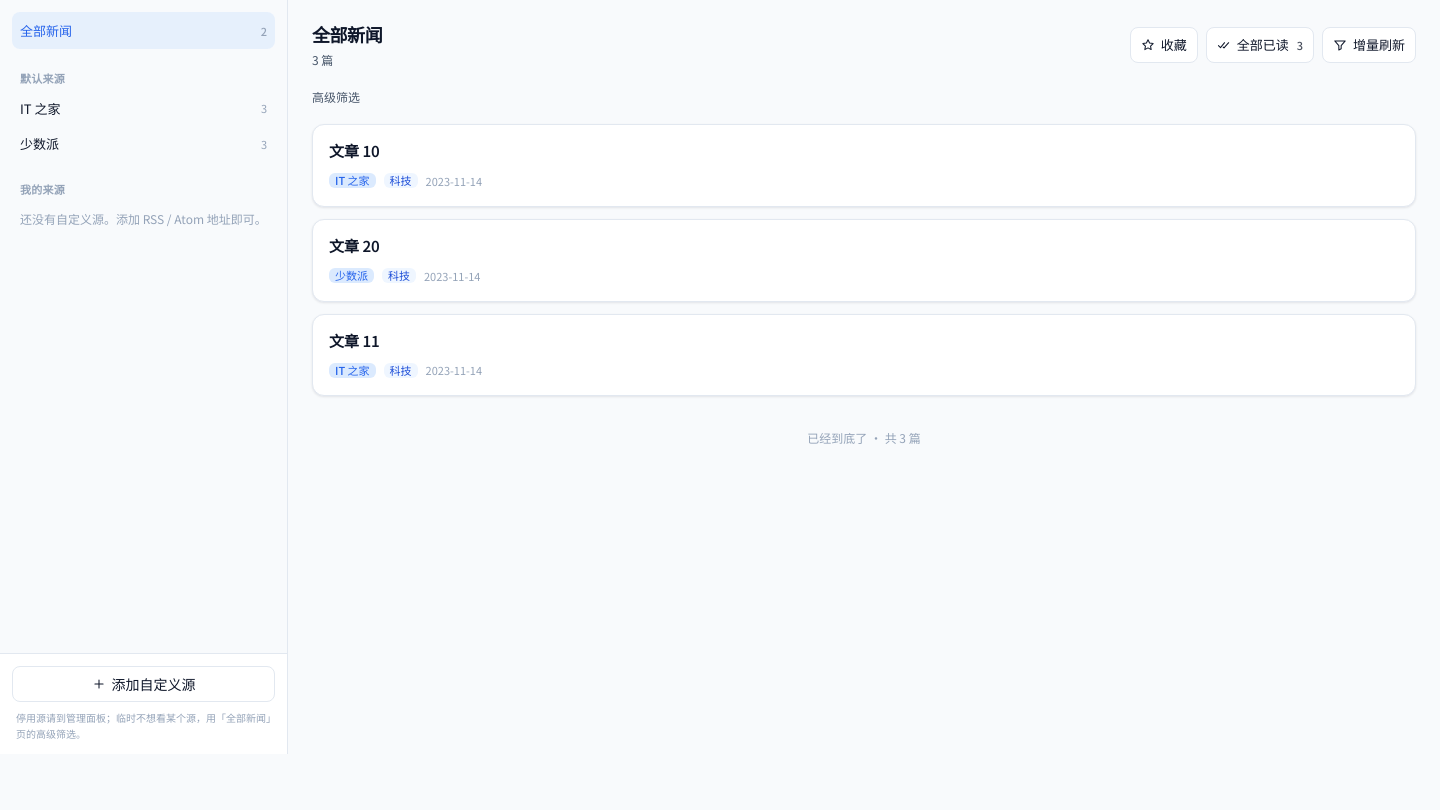
it: 清除入口与视图连续性 › 先隐藏 A、点开 B、再回「全部新闻」：隐藏状态不丢（不随视图重置）
Check: the text "3 篇" is shown, box [312,51,333,68]
Click the button "高级筛选" at (336,97), box [312,87,360,107]
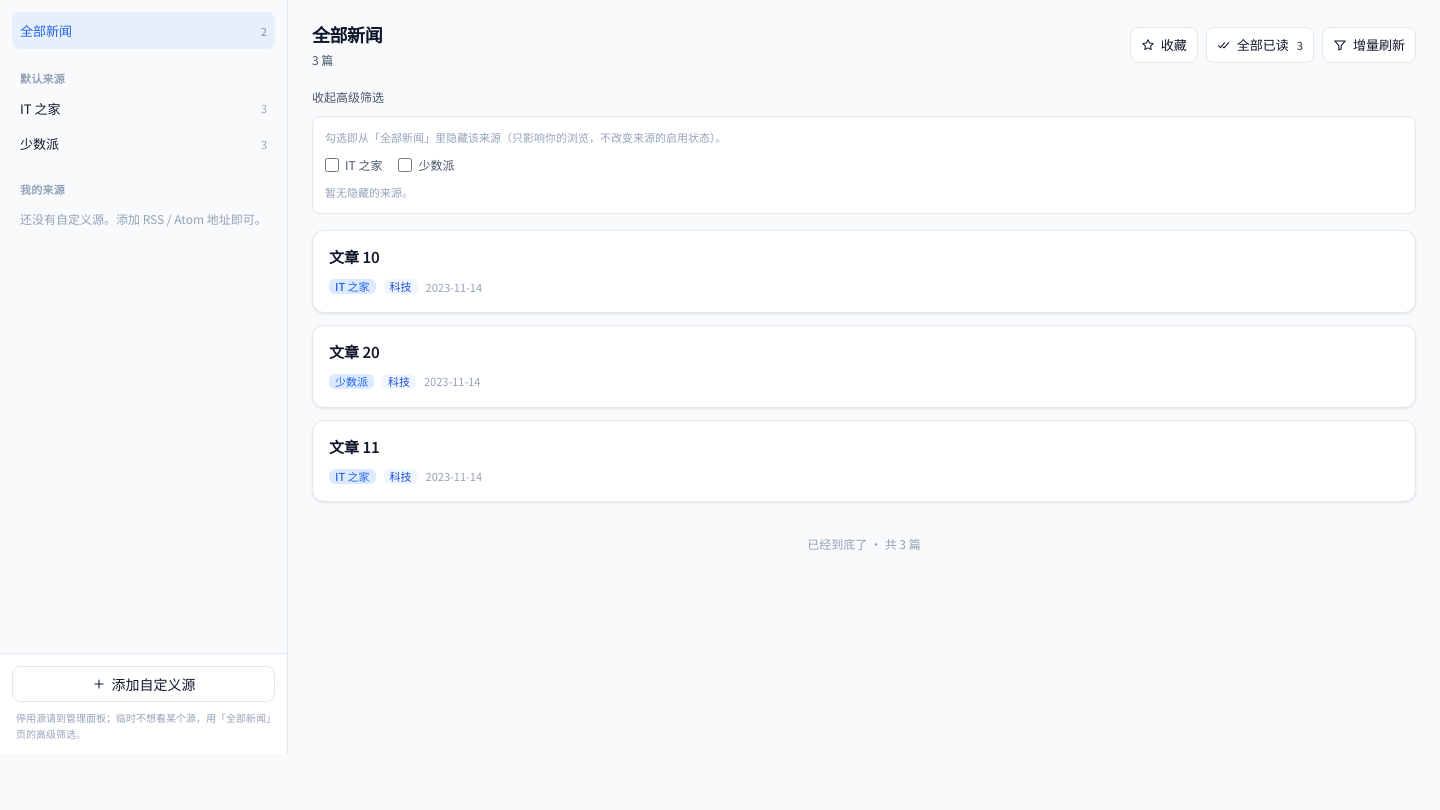
Check: the element with test id "hidden-sources-panel" is shown, box [312,116,1416,214]
Click the checkbox labelled "IT 之家" at (332,165), box [325,158,339,172]
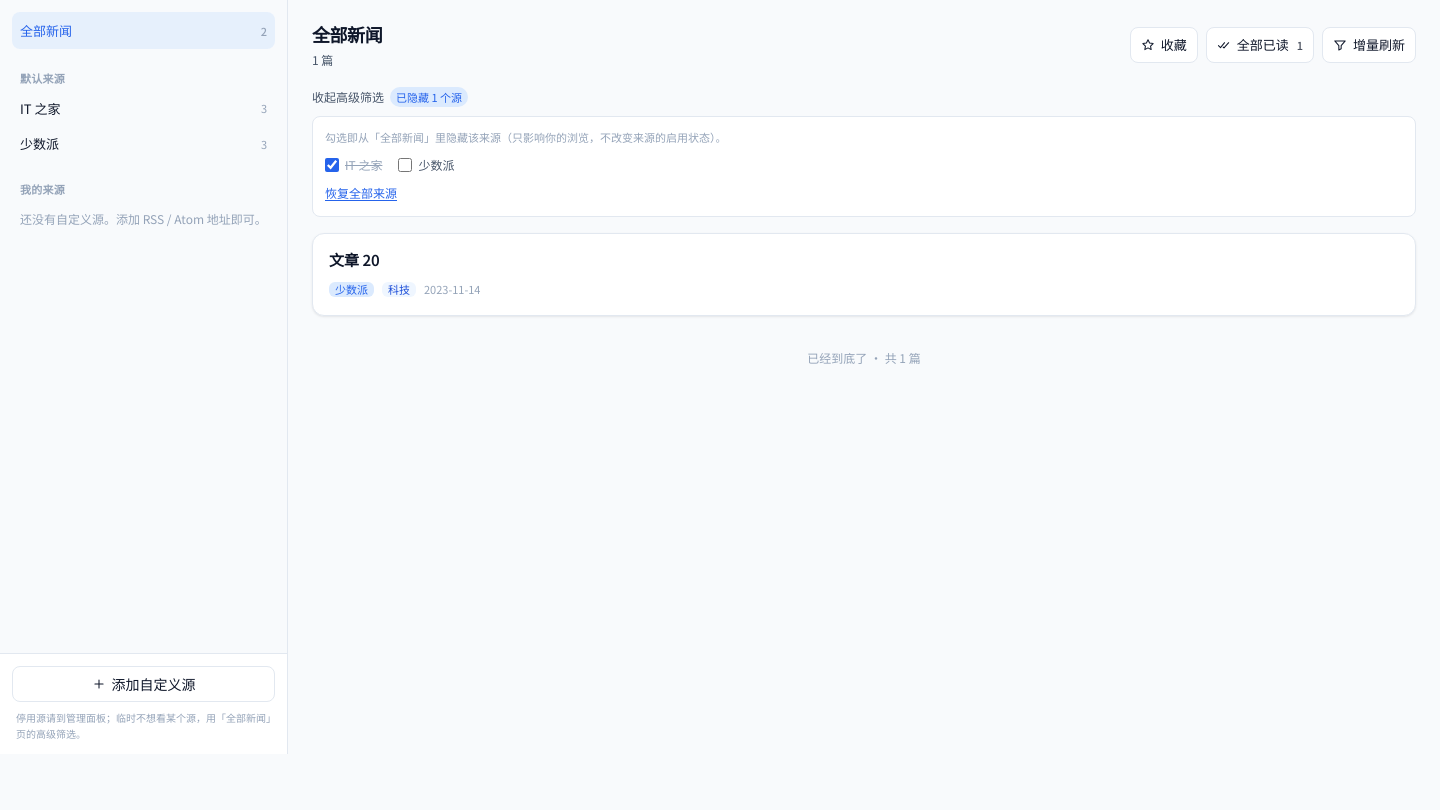
Click the button "少数派 3" at (40,144), box [12,127,275,160]
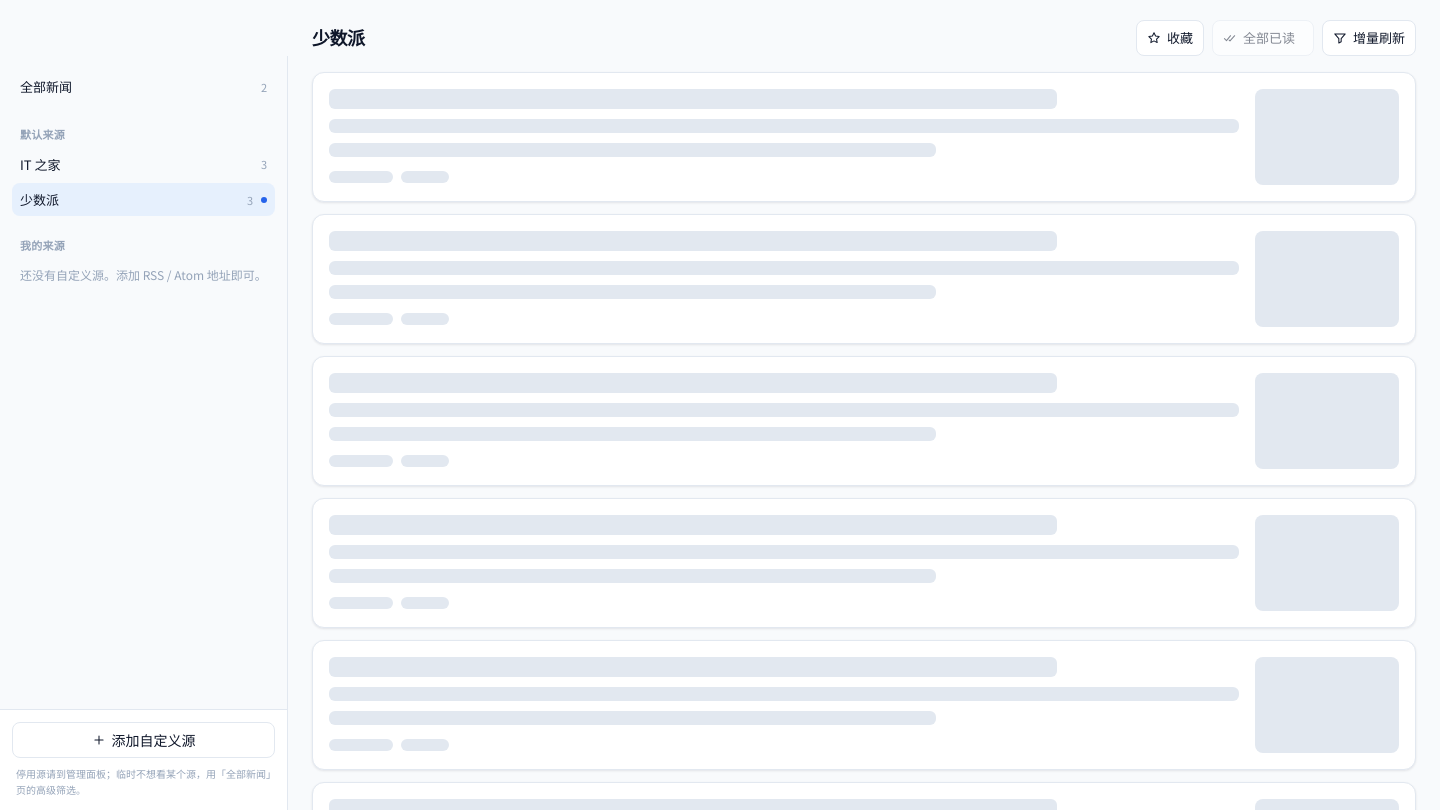
再回「全部新闻」。
Click the button "全部新闻 2" at (46,86), box [12,68,275,105]
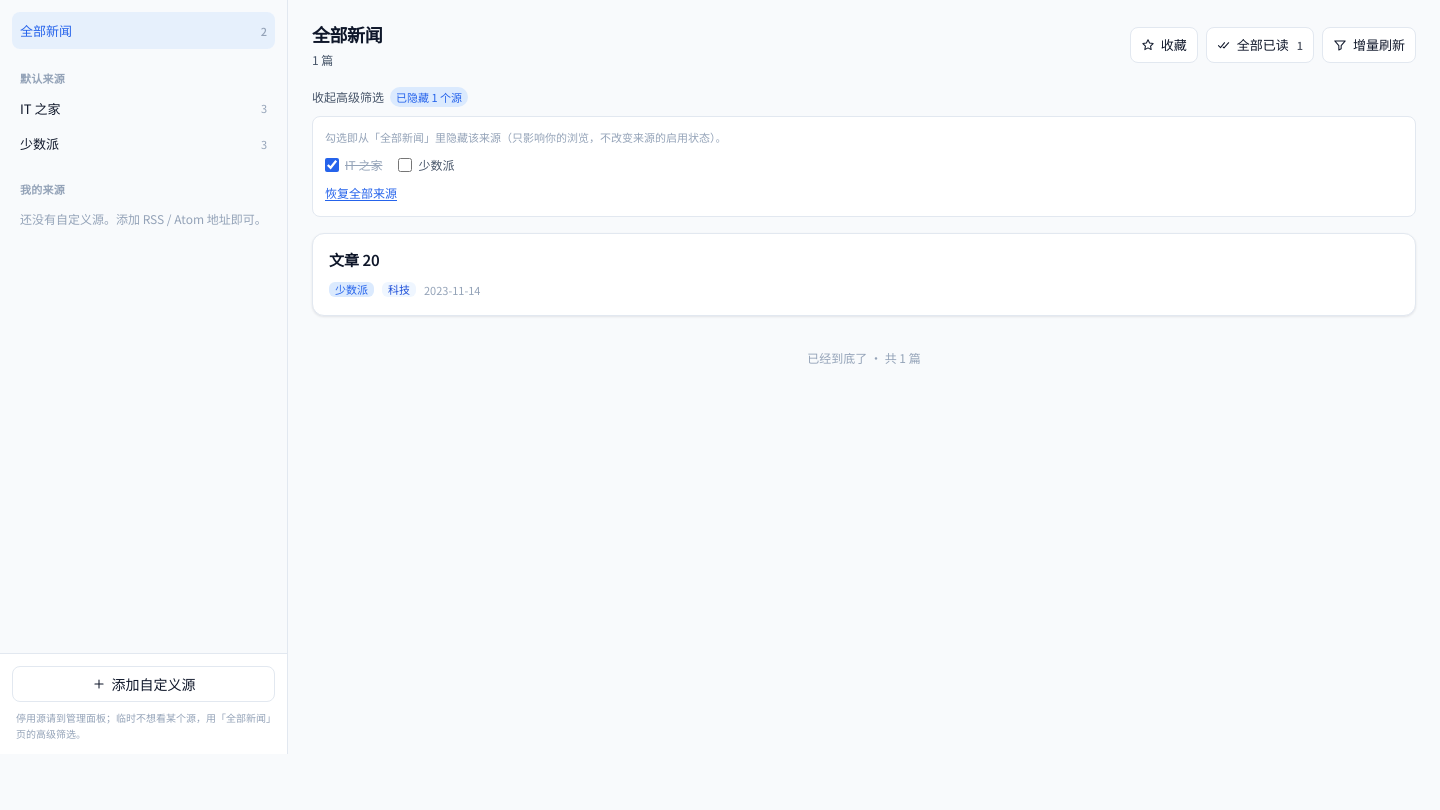
Check: the text "1 篇" is shown, box [312,51,333,68]
